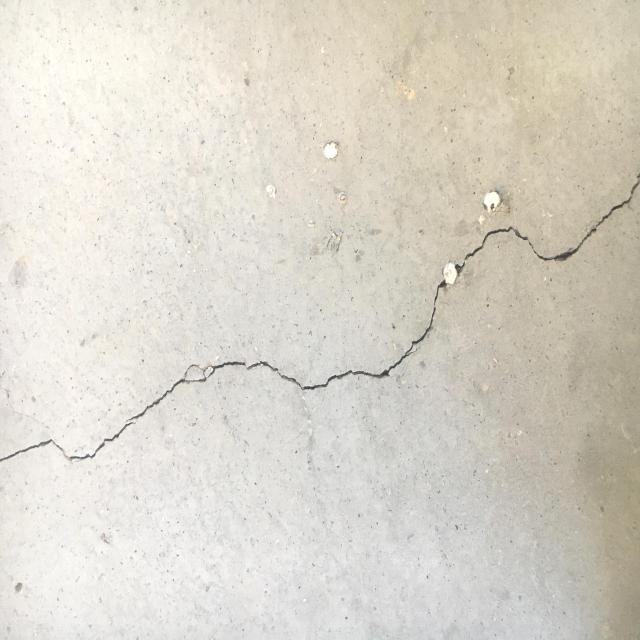SurfaceCrack: (1, 133, 640, 486)
